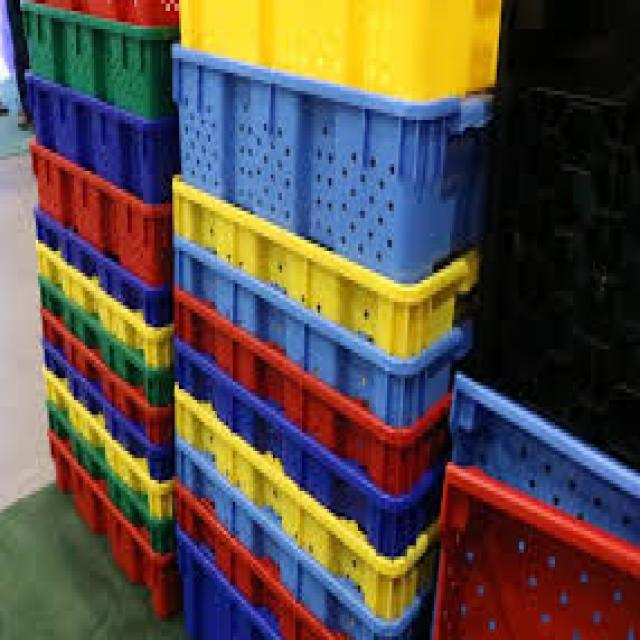basket: (145, 49, 503, 292), (126, 387, 458, 633), (134, 341, 457, 568), (135, 287, 467, 507), (140, 238, 477, 442), (146, 180, 485, 372), (138, 436, 436, 640), (14, 430, 205, 626), (154, 476, 347, 640), (181, 2, 501, 100), (0, 140, 202, 293), (1, 71, 196, 210), (23, 368, 190, 528), (17, 306, 191, 453), (29, 330, 189, 489), (13, 240, 191, 378), (17, 275, 189, 415), (13, 209, 188, 334), (129, 523, 289, 640), (88, 466, 189, 561), (34, 400, 118, 486)
